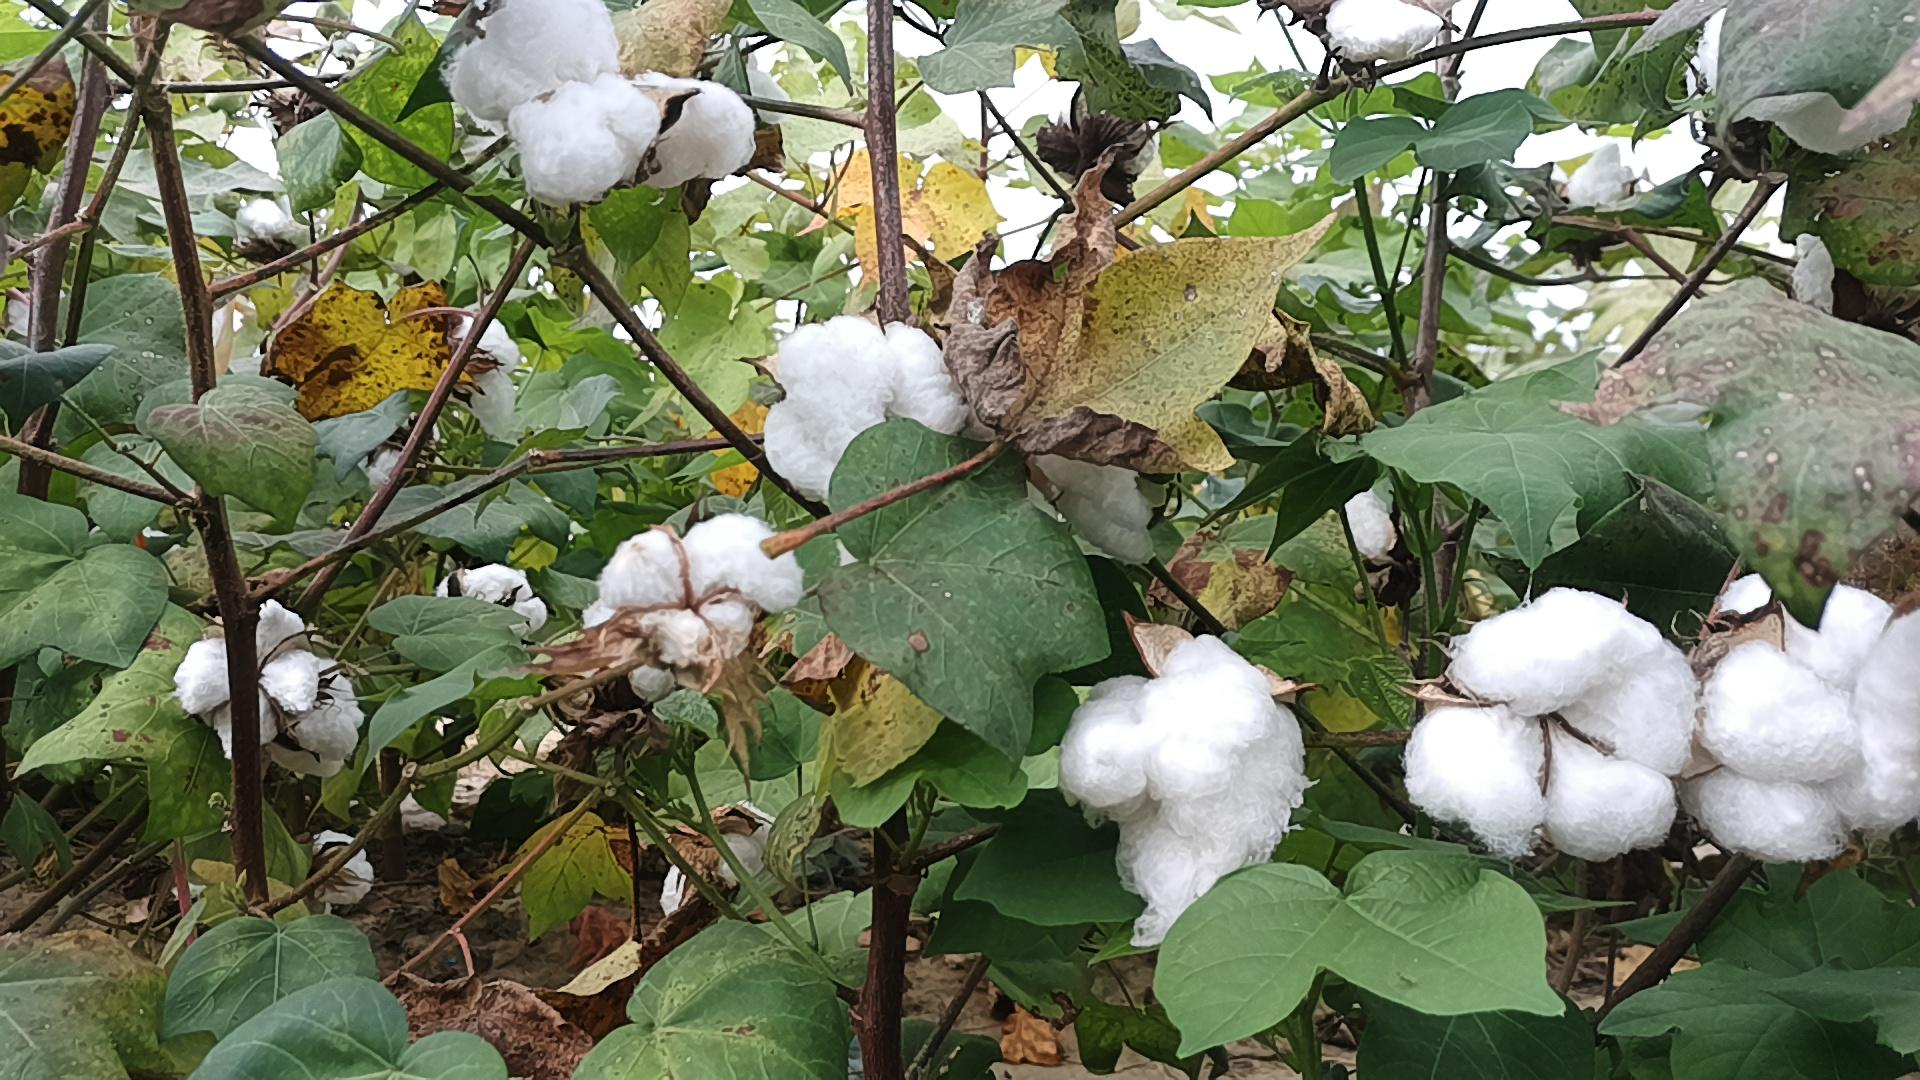cotton_ready: (1408, 591, 1693, 862), (1064, 630, 1303, 951), (1701, 580, 1920, 865), (451, 0, 662, 204), (767, 315, 961, 501), (591, 512, 802, 669), (182, 599, 314, 757), (633, 71, 754, 190), (1275, 0, 1445, 63), (268, 662, 357, 778), (439, 562, 549, 637), (448, 319, 518, 435), (1568, 145, 1636, 236), (232, 195, 320, 260)
